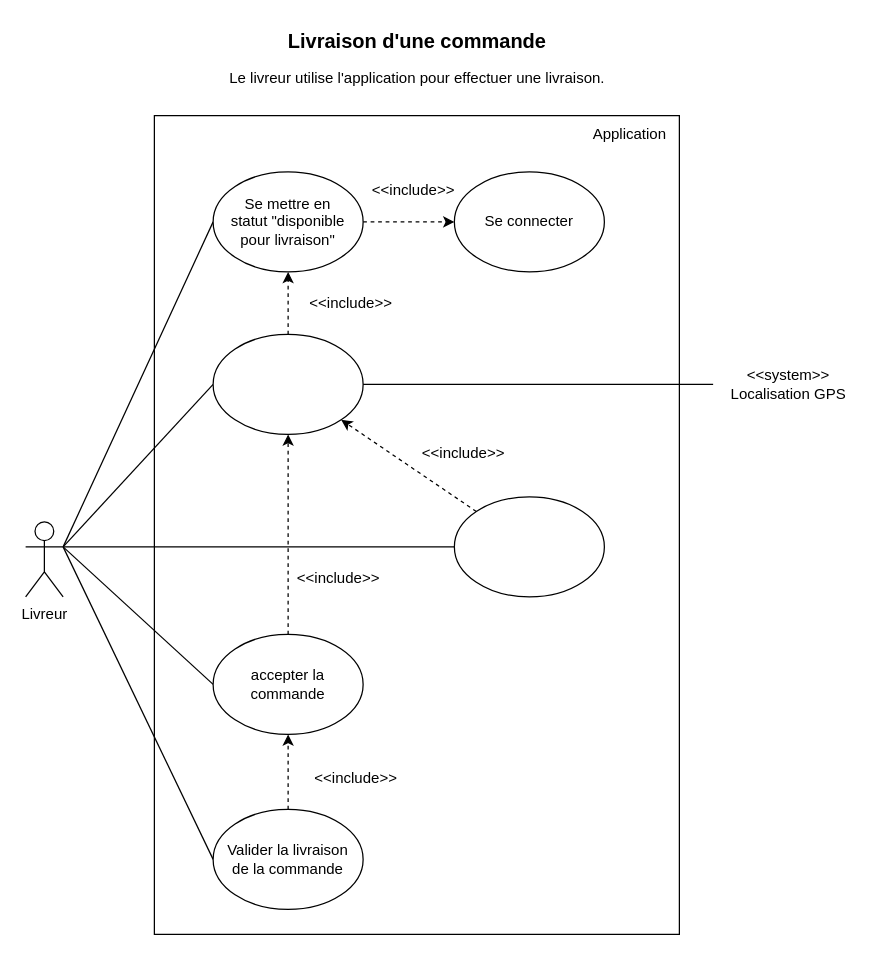
Image size: 885x956. Some labels were removed from this diagram. The shapes that lost their labels are listed below. From the top down, each one's centre as x and y in pixels, then its label:
point 287,383: Matcher une commande en statut "en attente d'un livreur"
point 528,546: refuser la commande
